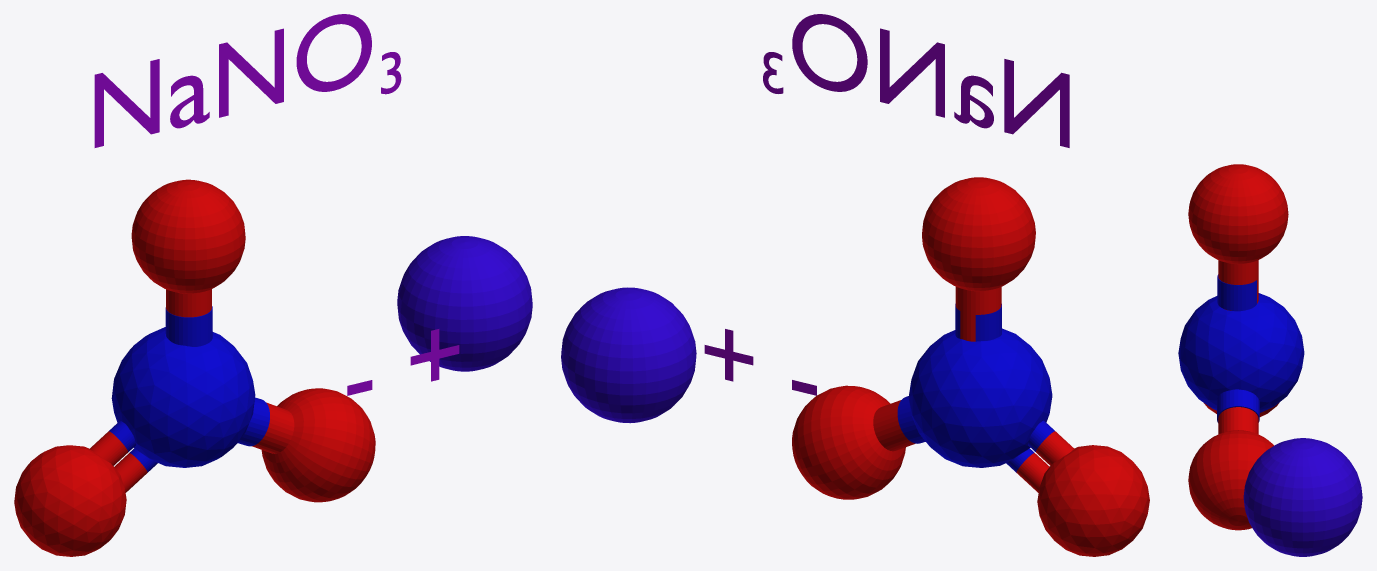
The model's file is nano3.obj.
3 views of the same model, side by side, from view 1: azimuth 30°, elevation 25°; view 2: azimuth 150°, elevation 25°; view 3: azimuth 270°, elevation 25° (orthographic). The views are drawn at different scales.
Visible parts, largest first — view 1: Cylinder_Cylinder.111, Sphere.002_Sphere.060, Sphere_Sphere.058, Shape_IndexedFaceSet.002_Shape_IndexedFaceSet.332, Sphere.001_Sphere.059, Text_Text.027, Text.001_Text.028; view 2: Cylinder_Cylinder.111, Sphere.002_Sphere.060, Sphere_Sphere.058, Shape_IndexedFaceSet.002_Shape_IndexedFaceSet.332, Sphere.001_Sphere.059, Text_Text.027, Text.001_Text.028; view 3: Cylinder_Cylinder.111, Sphere.002_Sphere.060, Sphere_Sphere.058, Sphere.001_Sphere.059.
Part boxes in pixels (x1=…): Cylinder_Cylinder.111: x1=109, y1=306, x2=269, y2=472; Sphere.002_Sphere.060: x1=397, y1=236, x2=532, y2=371; Sphere_Sphere.058: x1=131, y1=179, x2=245, y2=317; Shape_IndexedFaceSet.002_Shape_IndexedFaceSet.332: x1=14, y1=431, x2=147, y2=556; Sphere.001_Sphere.059: x1=252, y1=388, x2=375, y2=502; Text_Text.027: x1=94, y1=14, x2=371, y2=147; Text.001_Text.028: x1=347, y1=329, x2=459, y2=395; Cylinder_Cylinder.111: x1=897, y1=304, x2=1054, y2=472; Sphere.002_Sphere.060: x1=561, y1=287, x2=696, y2=423; Sphere_Sphere.058: x1=922, y1=177, x2=1035, y2=341; Shape_IndexedFaceSet.002_Shape_IndexedFaceSet.332: x1=1016, y1=431, x2=1149, y2=556; Sphere.001_Sphere.059: x1=792, y1=385, x2=915, y2=499; Text_Text.027: x1=792, y1=14, x2=1069, y2=147; Text.001_Text.028: x1=704, y1=329, x2=816, y2=395; Cylinder_Cylinder.111: x1=1178, y1=274, x2=1304, y2=422; Sphere.002_Sphere.060: x1=1243, y1=438, x2=1362, y2=556; Sphere_Sphere.058: x1=1188, y1=164, x2=1288, y2=310; Sphere.001_Sphere.059: x1=1188, y1=407, x2=1273, y2=530.
Size of the model in its own units: 13.43 by 11.37 by 4.55.
